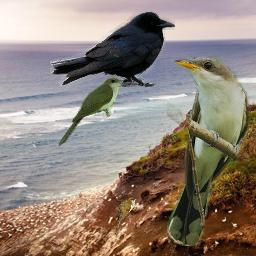Crow: (50, 11, 175, 87)
Cuckoo: (167, 57, 250, 246), (58, 77, 125, 147), (115, 197, 137, 235)
